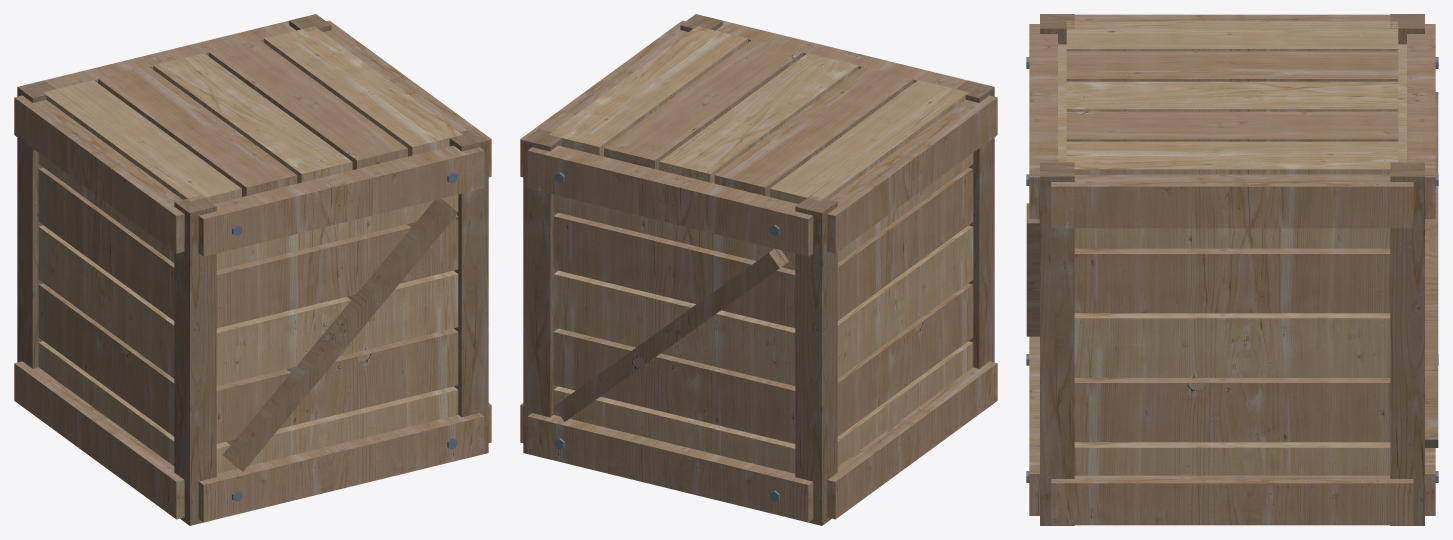
File: wood_crate.glb
The picture shows the model from 3 angles, left to right: view 1: azimuth 30°, elevation 25°; view 2: azimuth 150°, elevation 25°; view 3: azimuth 270°, elevation 25°; orthographic projection. The views are drawn at different scales.
Parts seen in each view (by area): view 1: wood_crate; view 2: wood_crate; view 3: wood_crate.
Part boxes in pixels (<box>): wood_crate: <box>14,14,491,525</box>; wood_crate: <box>520,14,997,525</box>; wood_crate: <box>1026,14,1438,525</box>.
Bounding box in the file's own units: 1.06 × 1 × 1.07.
4 materials, 3 textured.
